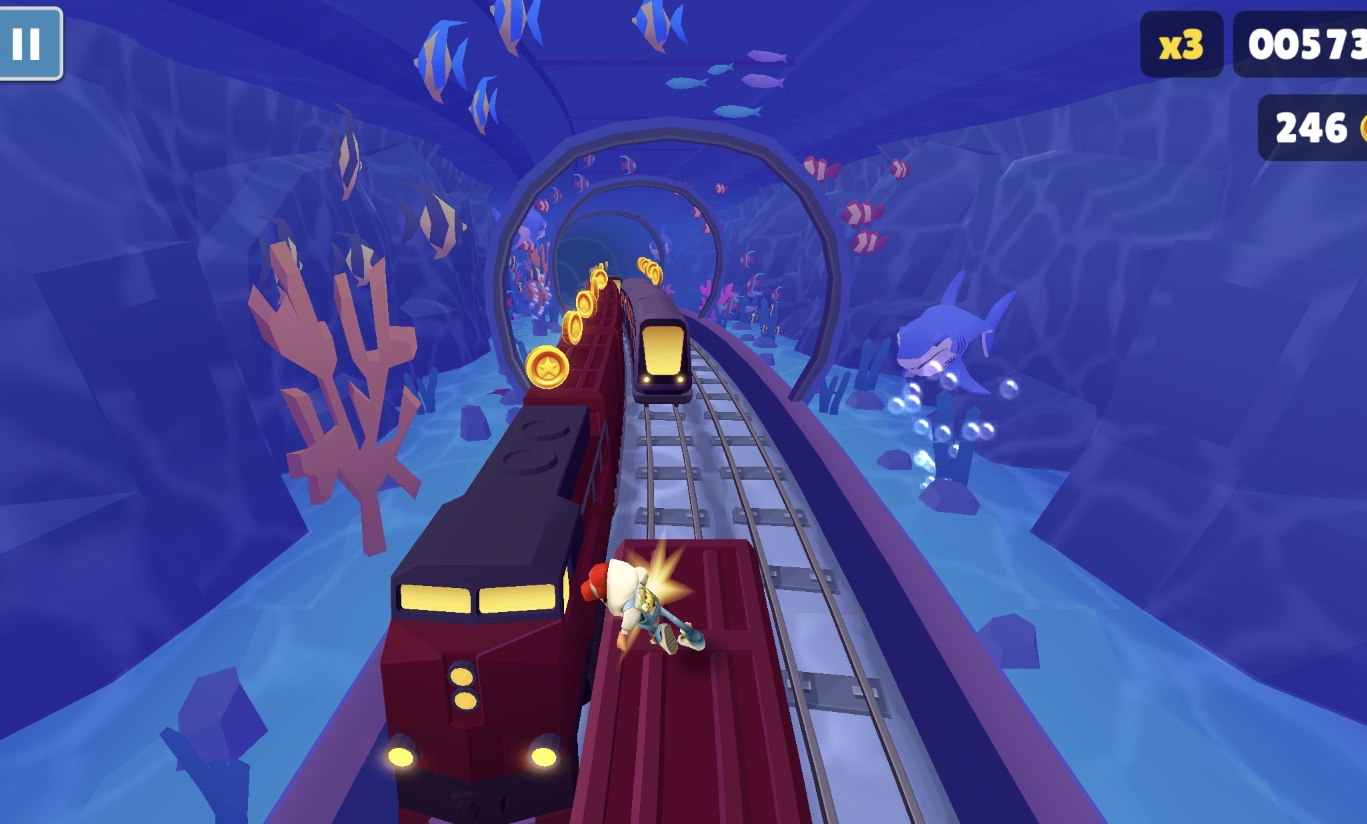train: (377, 278, 630, 824), (571, 540, 820, 824), (615, 279, 694, 405)
